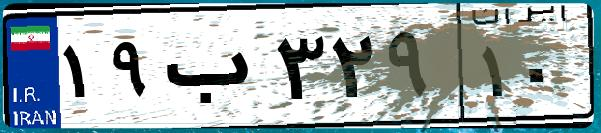0: (525, 38, 570, 115)
1: (57, 26, 110, 100), (475, 38, 525, 113)
2: (330, 28, 385, 110)
3: (270, 28, 330, 110)
9: (385, 28, 445, 110), (110, 28, 158, 98)
ب: (158, 20, 270, 120)
